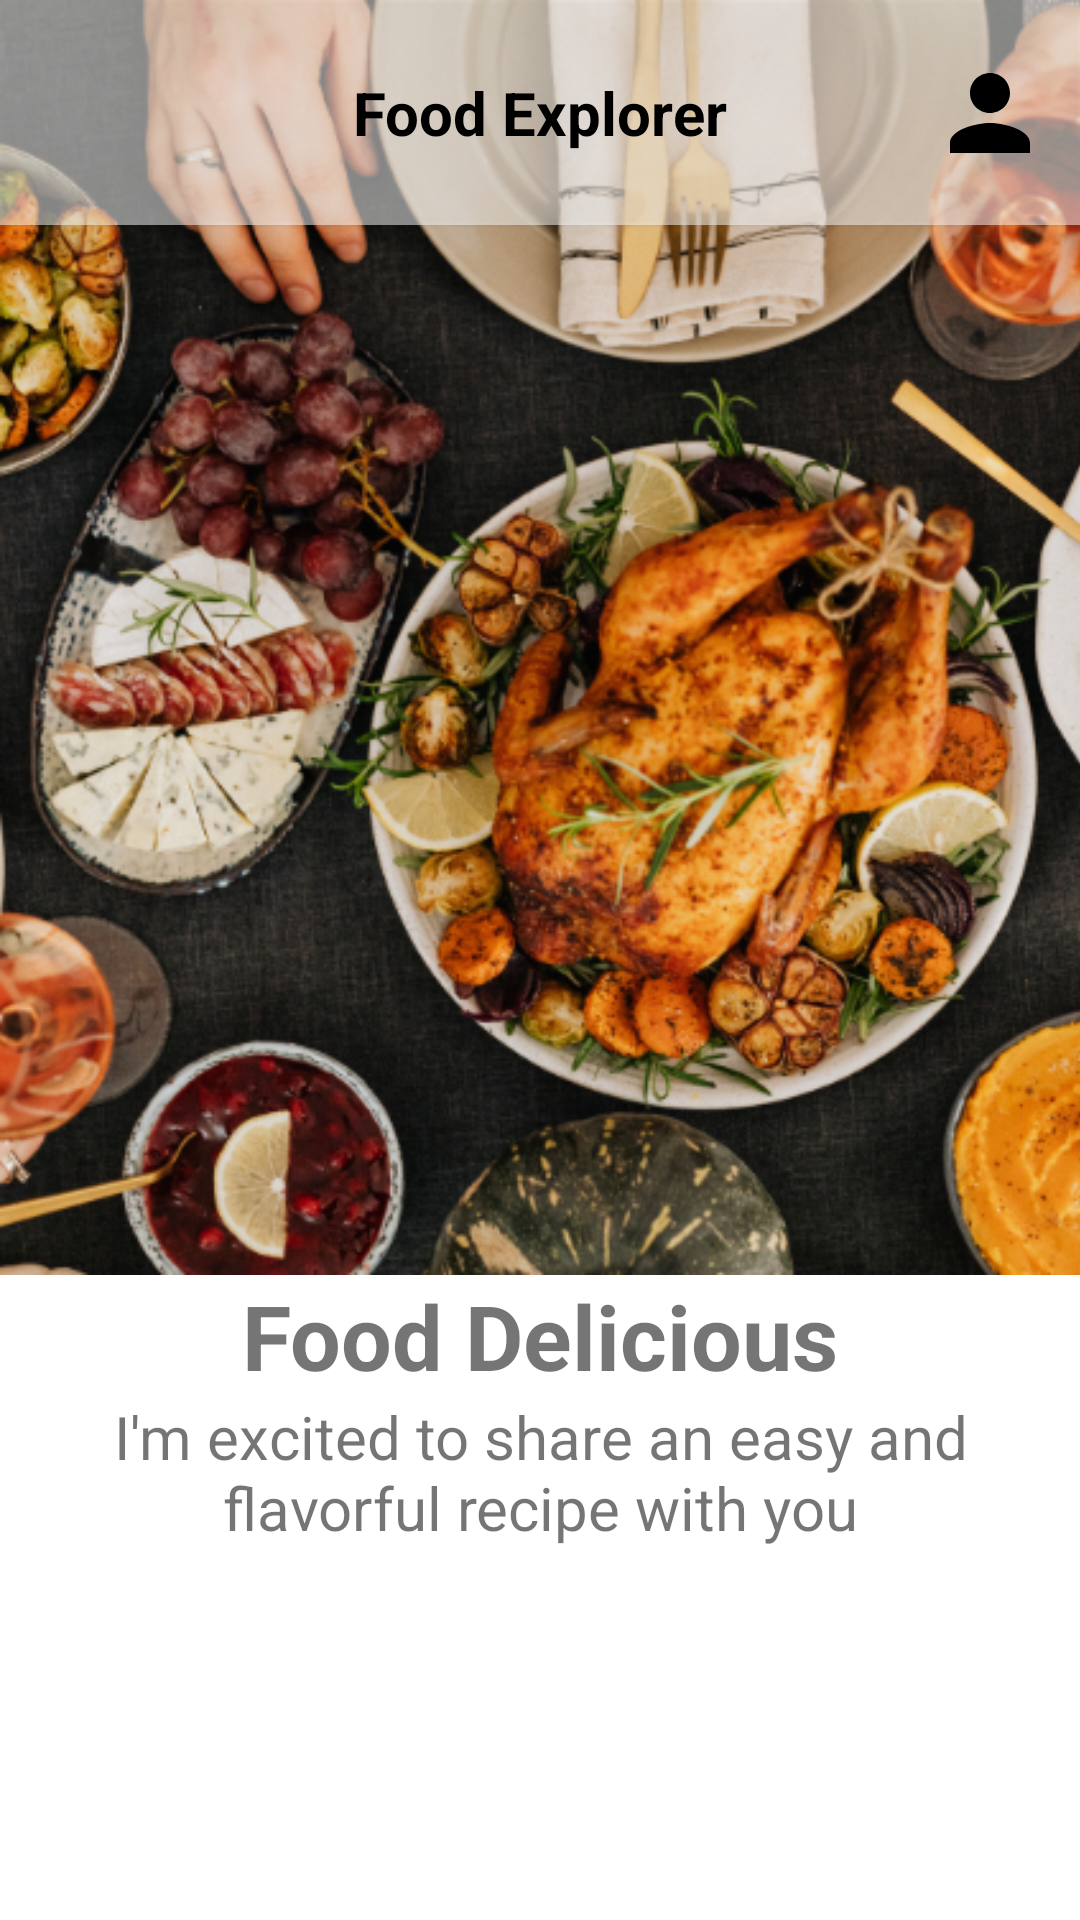

Icon click points for this 1080x1920 phone screenshot, format point (x, y):
person: point (1015, 113)
